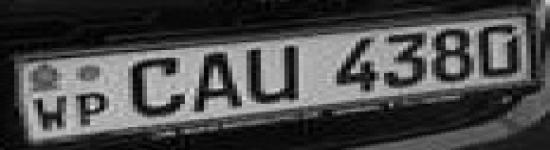0: (475, 23, 524, 80)
3: (380, 30, 429, 90)
4: (330, 34, 381, 94)
8: (430, 26, 473, 86)
A: (194, 50, 244, 114)
C: (127, 56, 191, 117)
P: (73, 91, 118, 129)
U: (247, 45, 315, 105)
W: (30, 92, 72, 134)
